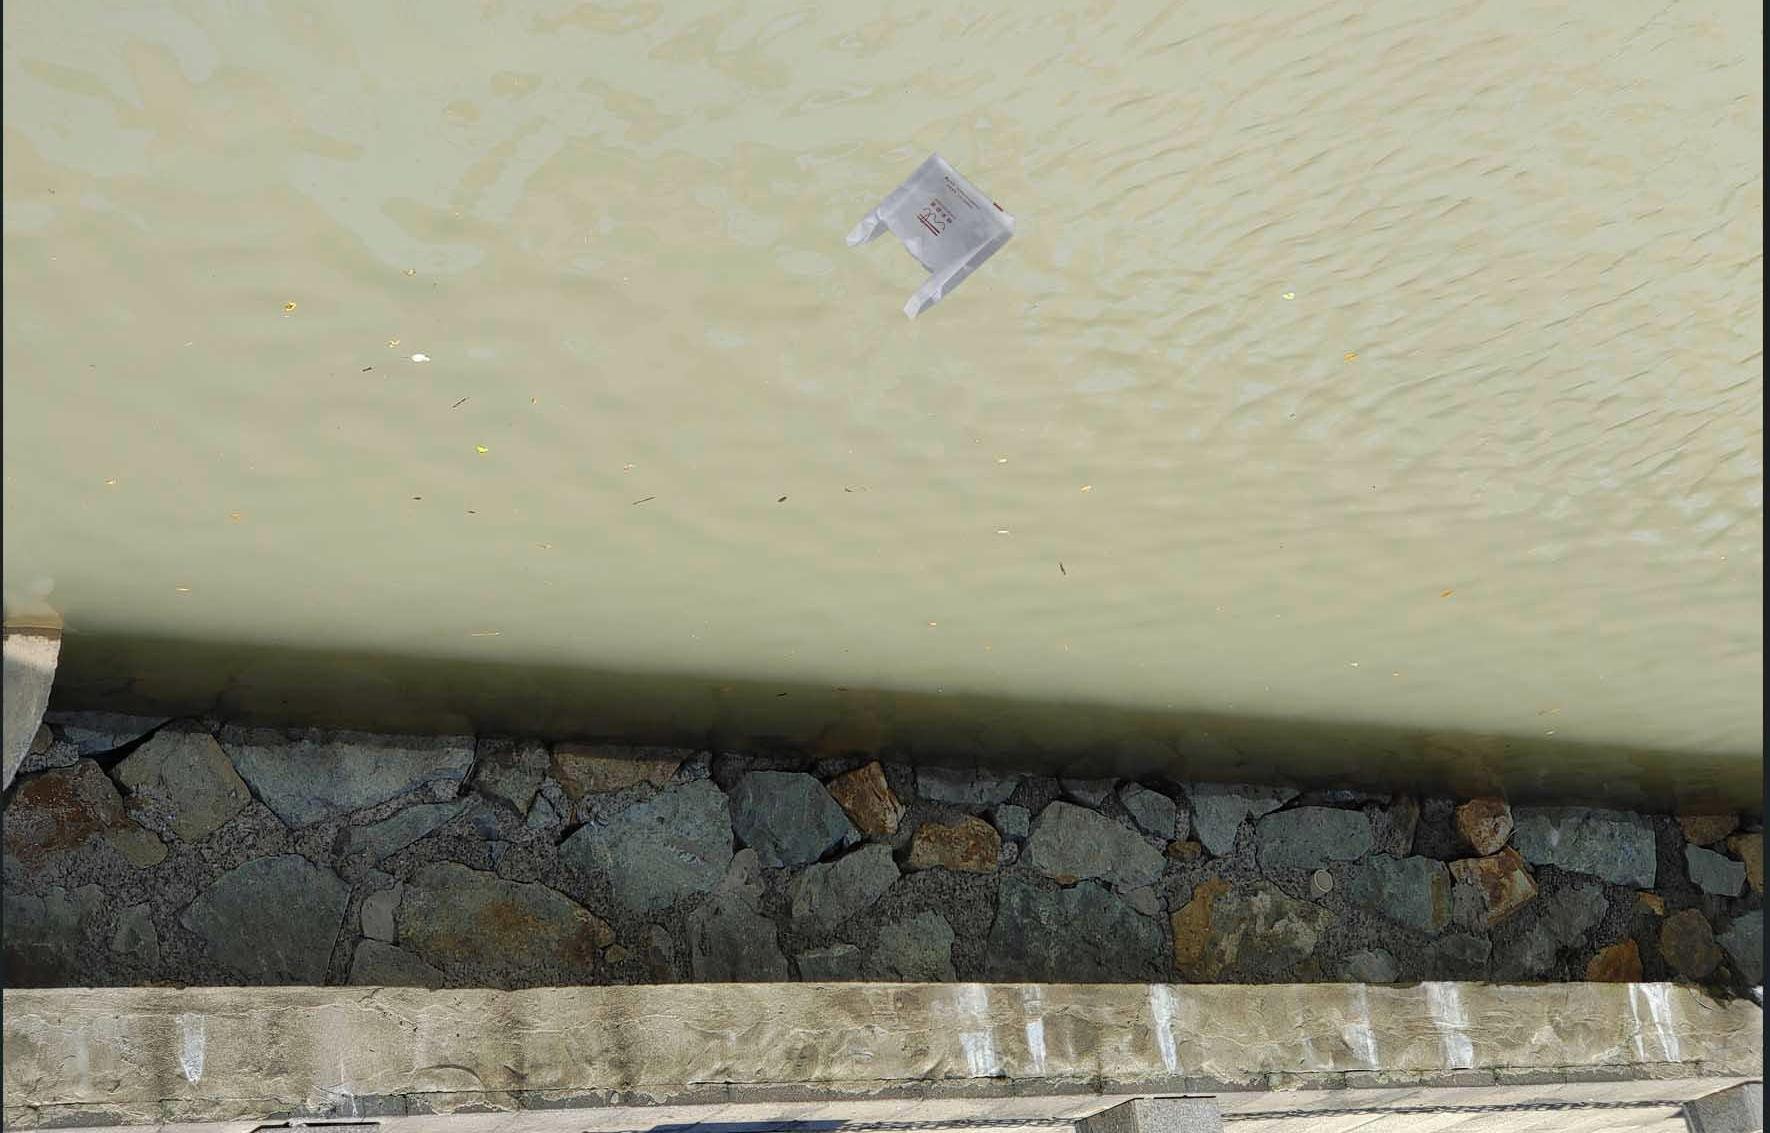Trash: (842, 146, 1020, 326)
